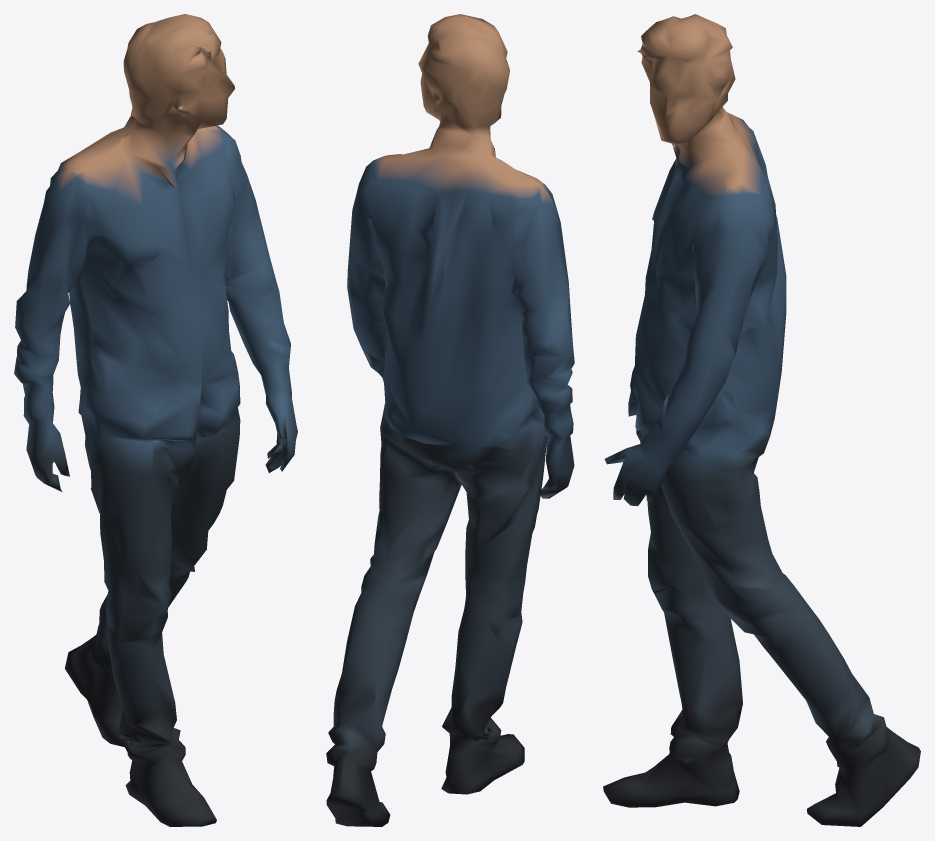
Rendered from people_typ14_stand.glb.
The picture shows the model from 3 angles, left to right: view 1: azimuth 30°, elevation 25°; view 2: azimuth 150°, elevation 25°; view 3: azimuth 270°, elevation 25°; orthographic projection. The views are drawn at different scales.
Parts seen in each view (by area): view 1: people_typ14_stand-mesh; view 2: people_typ14_stand-mesh; view 3: people_typ14_stand-mesh.
Boxes of the visible parts, x1,y1,x2,y2 form: people_typ14_stand-mesh: (14, 14, 297, 826); people_typ14_stand-mesh: (326, 14, 574, 826); people_typ14_stand-mesh: (603, 14, 920, 826).
Bounding box in the file's own units: 0.595 × 1.8 × 0.6598.
